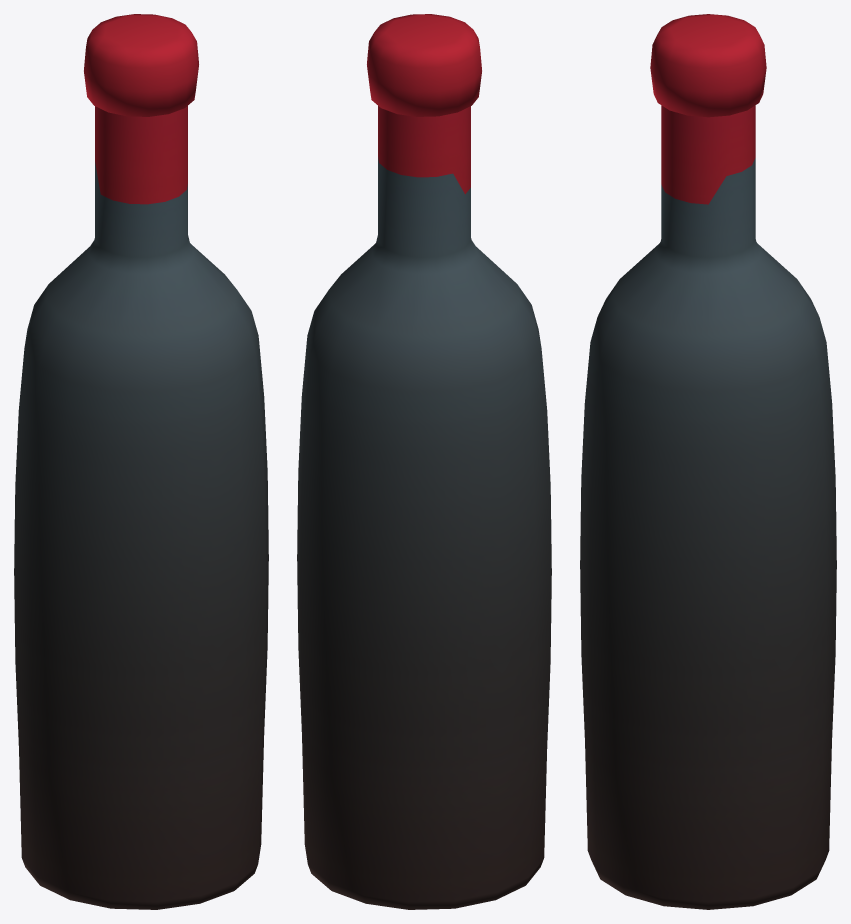
Rendered from bottle_021.fbx.
The picture shows the model from 3 angles, left to right: view 1: azimuth 30°, elevation 25°; view 2: azimuth 150°, elevation 25°; view 3: azimuth 270°, elevation 25°; orthographic projection.
Visible parts, largest first — view 1: bottle_021; view 2: bottle_021; view 3: bottle_021.
Part boxes in pixels (bbox=[...]): bottle_021: bbox=[14, 14, 268, 909]; bottle_021: bbox=[297, 14, 551, 909]; bottle_021: bbox=[580, 14, 836, 909].
Bounding box in the file's own units: 8.56 × 8.56 × 30.62.
